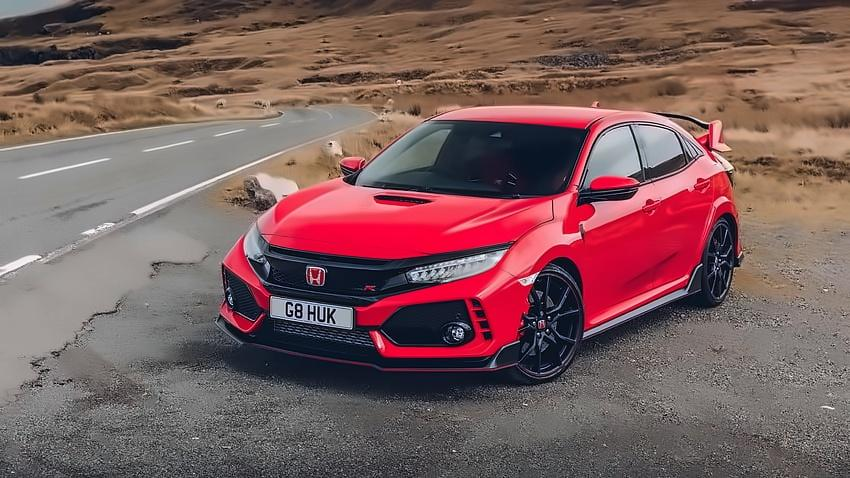Car hood: (256, 175, 561, 276)
Front bumper: (208, 261, 528, 379)
Headlight - -L-: (386, 239, 512, 295)
Headlight - -R-: (238, 216, 275, 268)
Passenger-s door - -F-L-: (555, 107, 663, 344)
Passenger-s door - -R-L-: (630, 111, 716, 320)
Rear light - -L-: (713, 153, 740, 190)
Side bumper - -L-: (571, 261, 709, 341)
Side mirror - -L-: (585, 175, 642, 203)
Side mirror - -R-: (337, 155, 366, 177)
